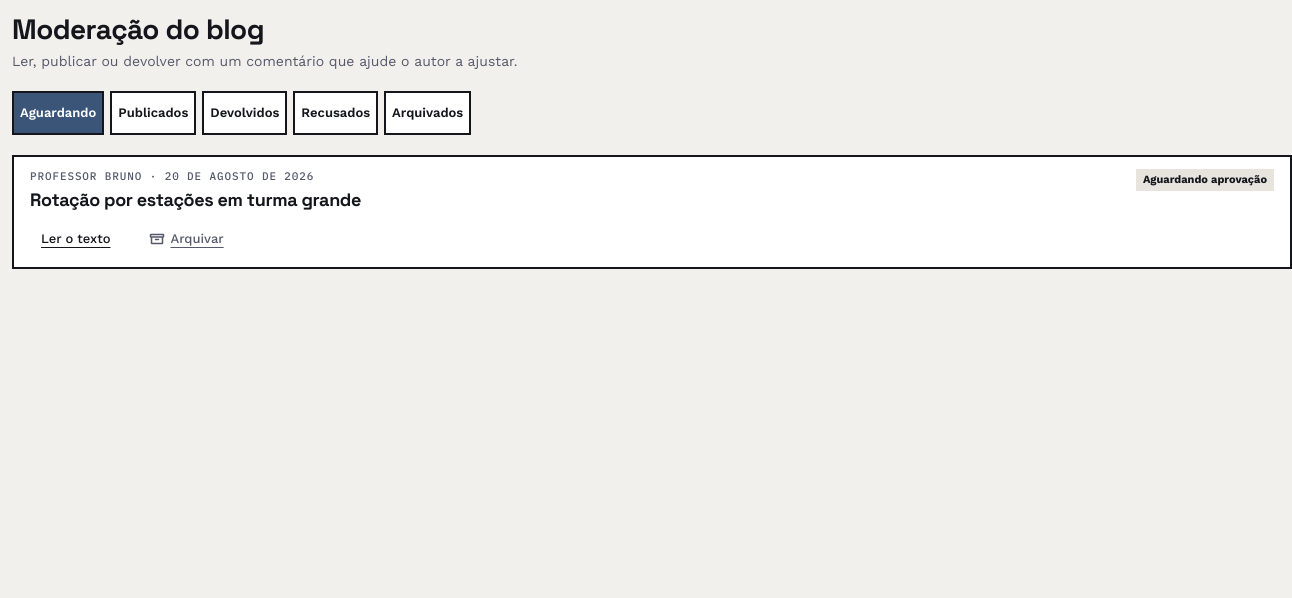
Test: PaginaModeracao › mostra o erro da API ao moderar
This screenshot has width=1292, height=598.
Expected: the heading "Rotação por estações em turma grande" is shown, [30,189,361,212]
Click the button "Ler o texto".
click(76, 240)  # box [30,224,122,256]
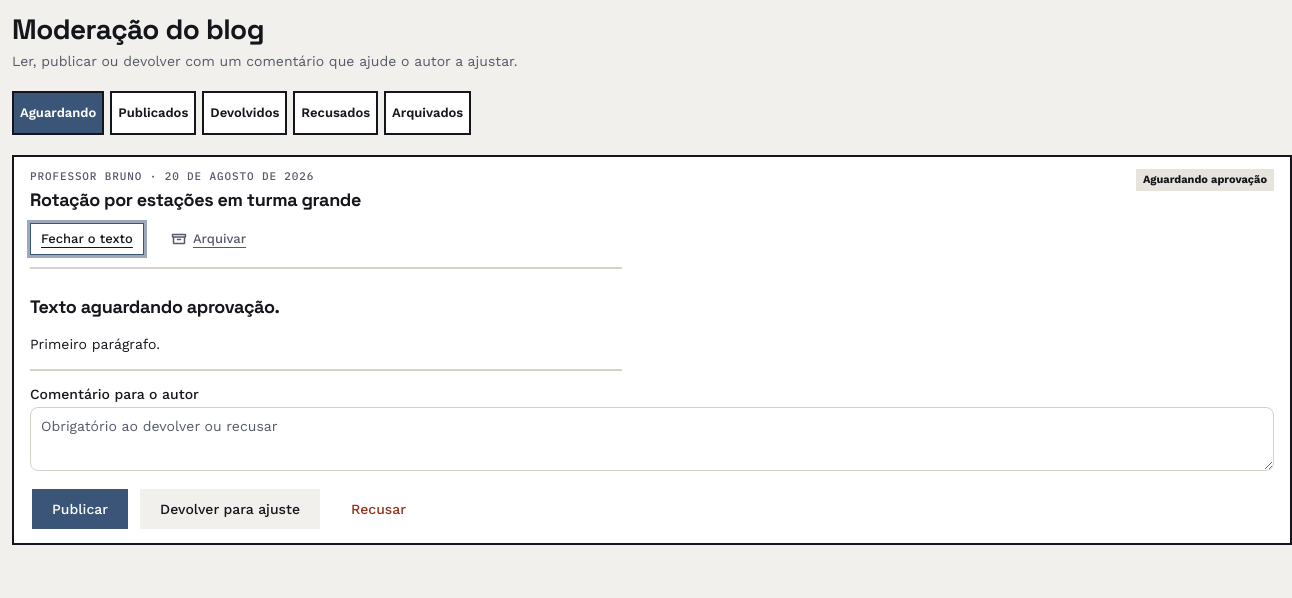
Click the button "Publicar".
click(80, 509)  # box [30,487,130,531]
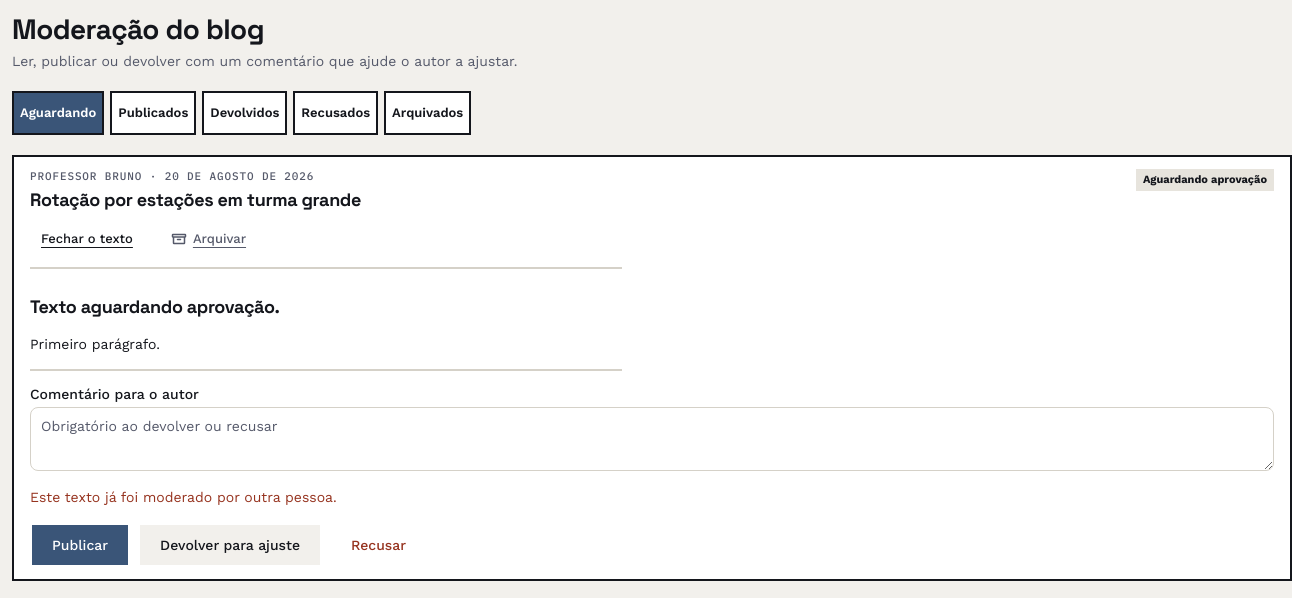
Now the text "Este texto já foi moderado por outra pessoa." is shown, box [30,489,337,505]
